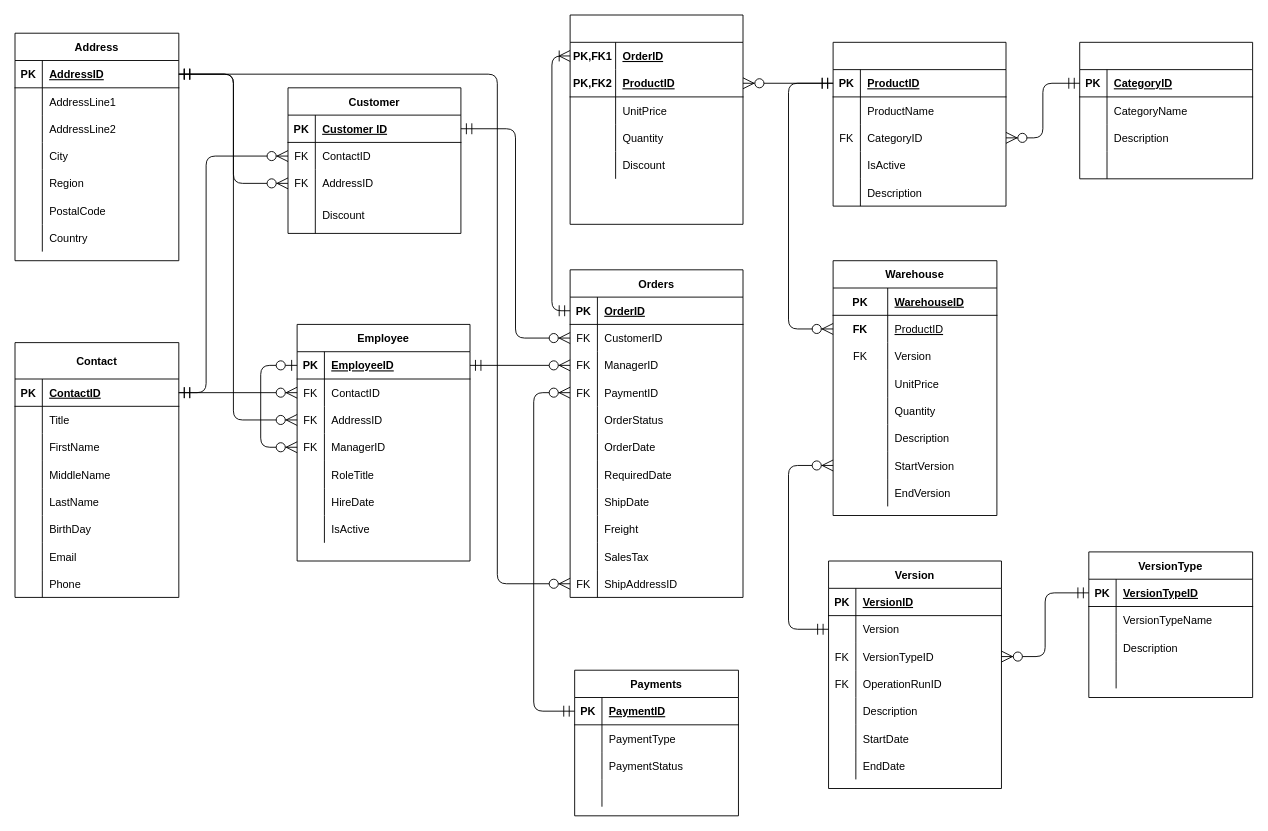
The diagram is 1268 pixels wide and 831 high, and some of its shapes have lost their labels. The shapes that lost their labels are listed below. From the top down, each one's box as (x1, y1, x2, y2) in pixels, then its label:
(569, 14, 743, 224): OrderDetails
(832, 41, 1006, 206): Products
(1079, 41, 1253, 179): Categories
